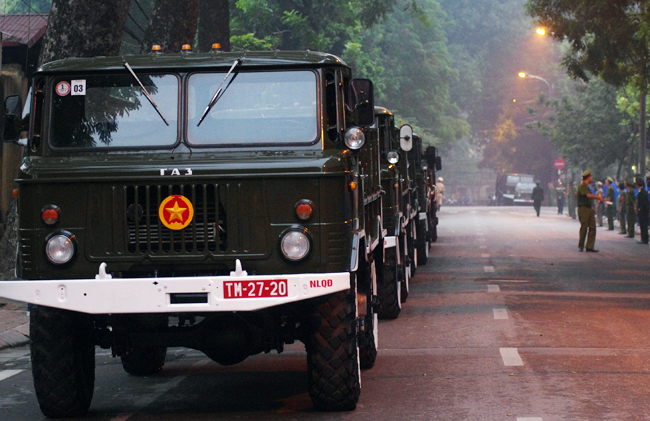plate: (222, 277, 289, 301)
